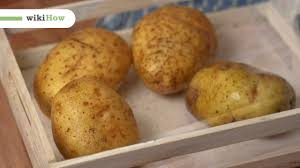potato: (26, 29, 131, 93), (181, 60, 288, 117), (46, 79, 129, 147), (135, 8, 203, 79)
